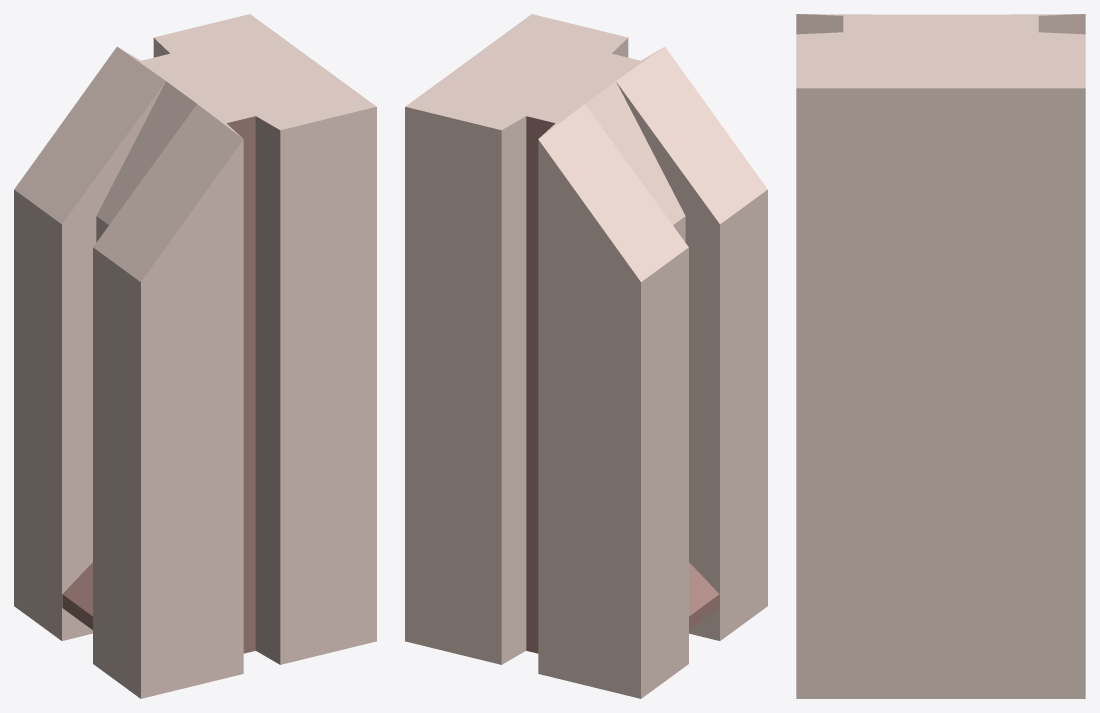
The model's file is Edificio005.FBX.
The picture shows the model from 3 angles, left to right: view 1: azimuth 30°, elevation 25°; view 2: azimuth 150°, elevation 25°; view 3: azimuth 270°, elevation 25°; orthographic projection. The views are drawn at different scales.
Visible parts, largest first — view 1: Edificio005; view 2: Edificio005; view 3: Edificio005.
Boxes of the visible parts, x1,y1,x2,y2 form: Edificio005: (14, 14, 376, 698); Edificio005: (405, 14, 767, 698); Edificio005: (796, 14, 1085, 698).
Bounding box in the file's own units: 879 × 1904 × 818.
